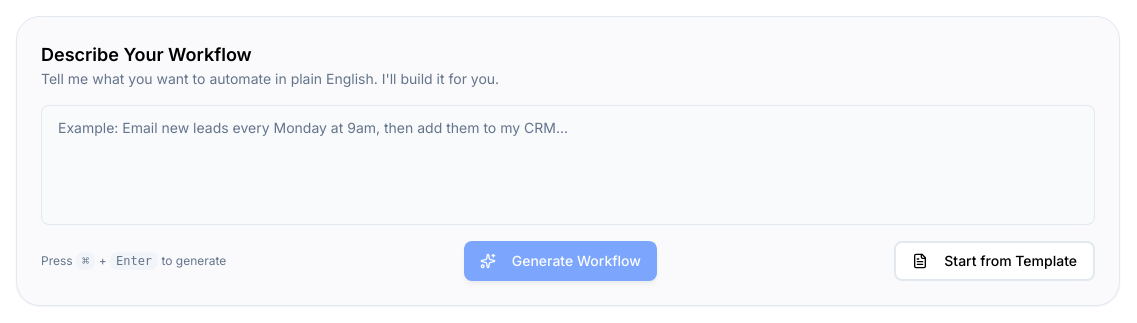
Test case: FlowBuilder Component › should enable generate button when input has text
Step 1. Type "Test workflow" into the text box with placeholder "Example:" → (568, 165), box x1=41 y1=105 x2=1095 y2=225
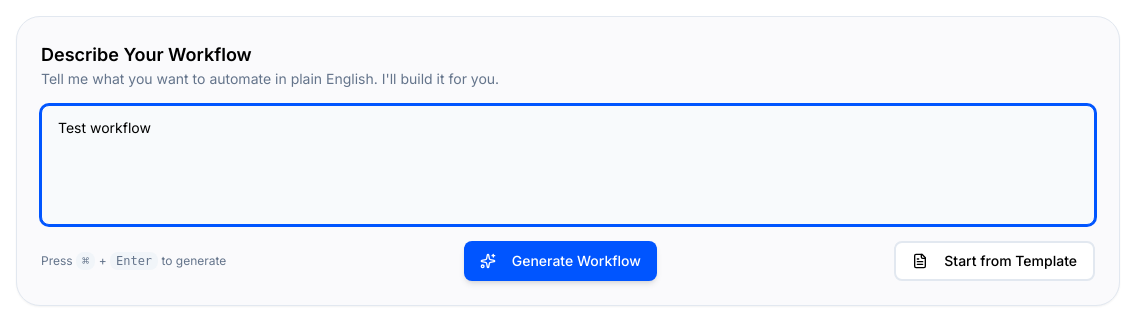
Expected: the button "Generate Workflow" is enabled, x1=464 y1=241 x2=657 y2=281
